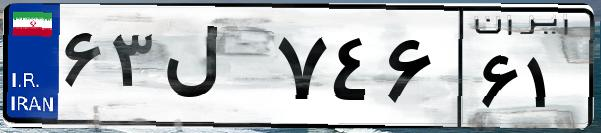1: (525, 38, 570, 115)
3: (110, 28, 158, 98)
4: (330, 28, 385, 110)
6: (385, 28, 445, 110), (57, 26, 110, 100), (475, 38, 525, 113)
7: (270, 28, 330, 110)
ل: (158, 20, 270, 120)
